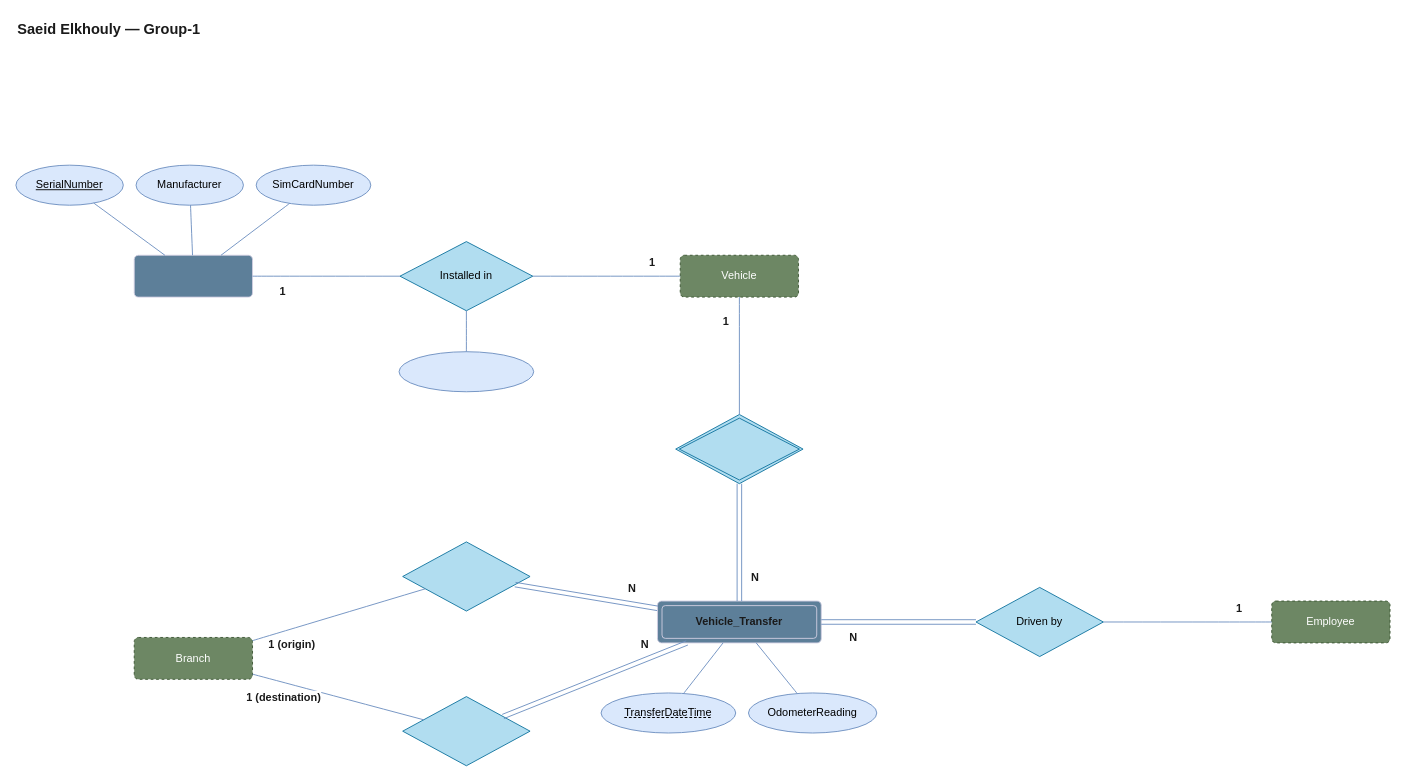
Some shapes in this 1406 by 782 pixel diagram are drawn without their labels. The box of each missing label's shape, as (x1, y1, x2, y2) in pixels:
Comes from: (402, 541, 530, 611)
Goes to: (402, 696, 530, 766)
GPS_Device: (133, 254, 253, 297)
InstallationDate: (398, 351, 534, 392)
Transferred: (675, 414, 803, 484)
